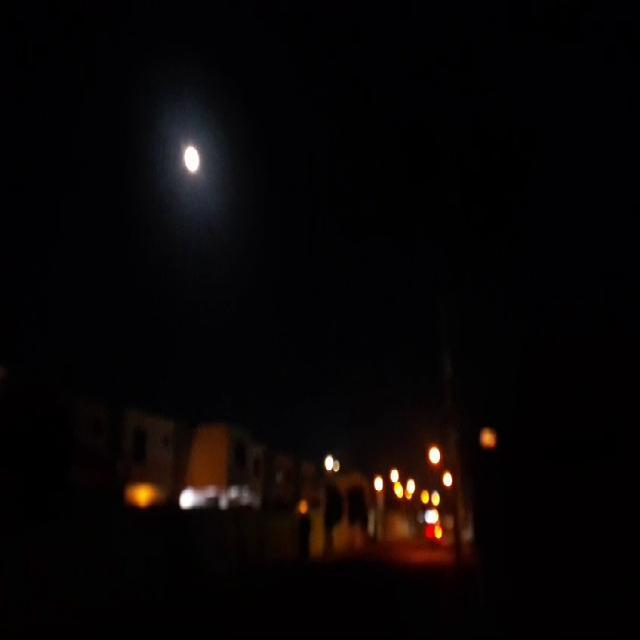moon: (183, 141, 203, 175)
